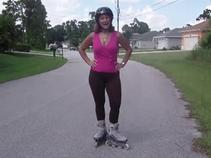down: (101, 131, 125, 148), (127, 17, 148, 35), (196, 7, 209, 20)
